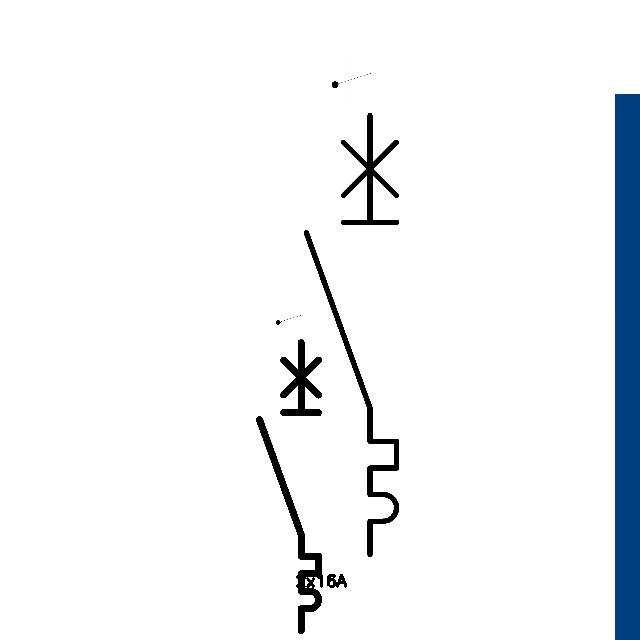interruptor_termomagnetico: (295, 104, 408, 566), (252, 335, 326, 638)
